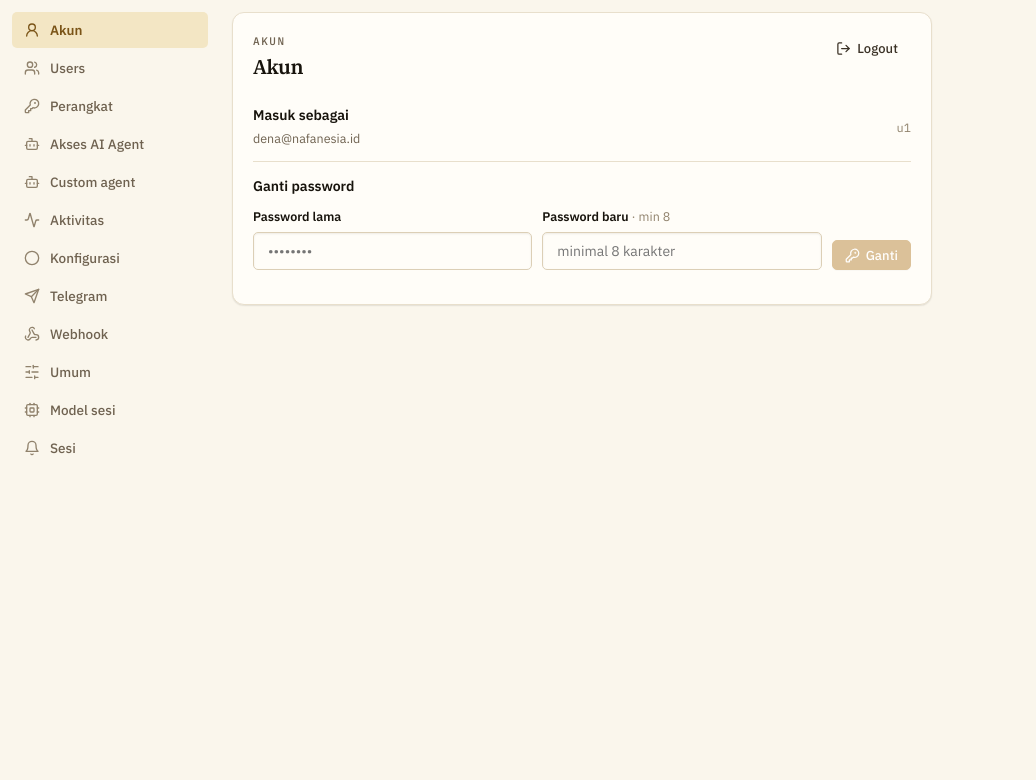
Test case: SPEC-492 · kartu agen operator Telegram › deskripsi kartu menyatakan bahwa sesi berjalan tidak di-restart
Click the button "Model sesi". click: (110, 410)
box: [12,392,208,428]
(page scrolled)
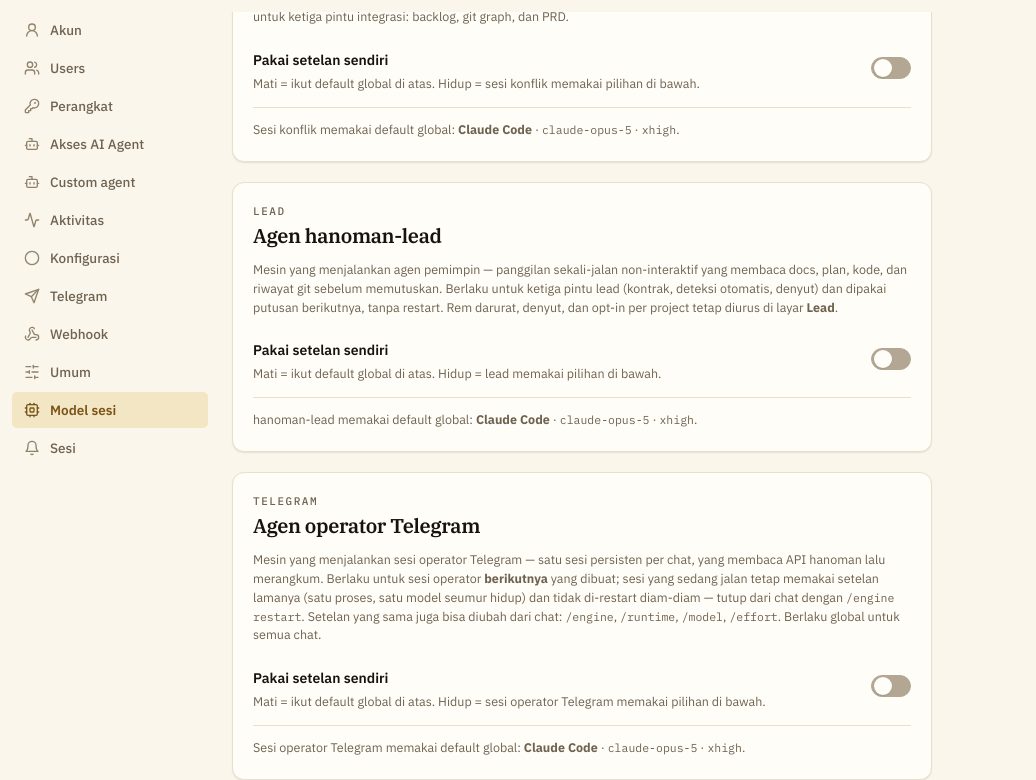
Check: the element with test id "telegram-engine-desc" shows "berikutnya", box [484,570,548,586]
Check: the element with test id "telegram-engine-desc" shows "/engine restart", box [253,590,894,624]
